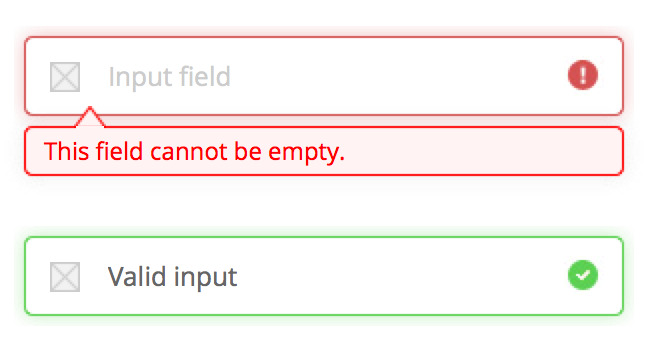error_field: (23, 36, 625, 116)
error_message: (42, 140, 345, 166)
